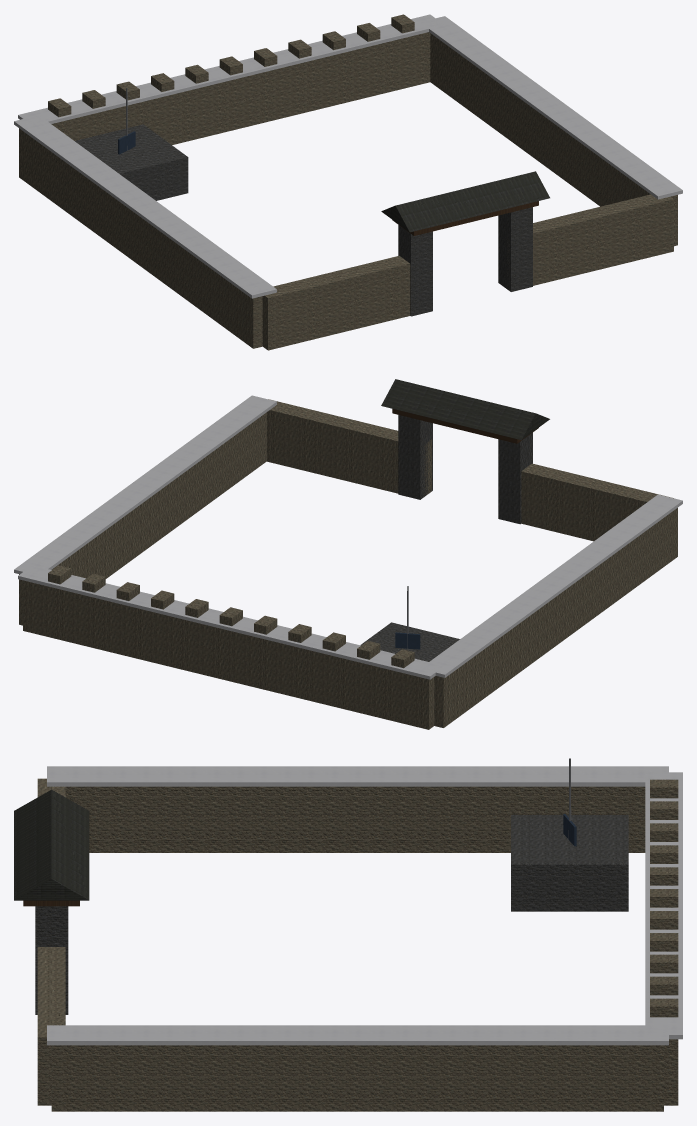
File: frost_fort_01.glb
3 views of the same model, one above another, from view 1: azimuth 30°, elevation 25°; view 2: azimuth 150°, elevation 25°; view 3: azimuth 270°, elevation 25° (orthographic). The views are drawn at different scales.
Visible parts, largest first — view 1: frost_fort_01; view 2: frost_fort_01; view 3: frost_fort_01.
Part boxes in pixels (box(x1,y1,x2,y2)): frost_fort_01: box(14, 14, 682, 350); frost_fort_01: box(14, 379, 682, 729); frost_fort_01: box(14, 758, 682, 1111).
Bounding box in the file's own units: 27.6 × 6.65 × 28.4.
7 materials, 7 textured.
